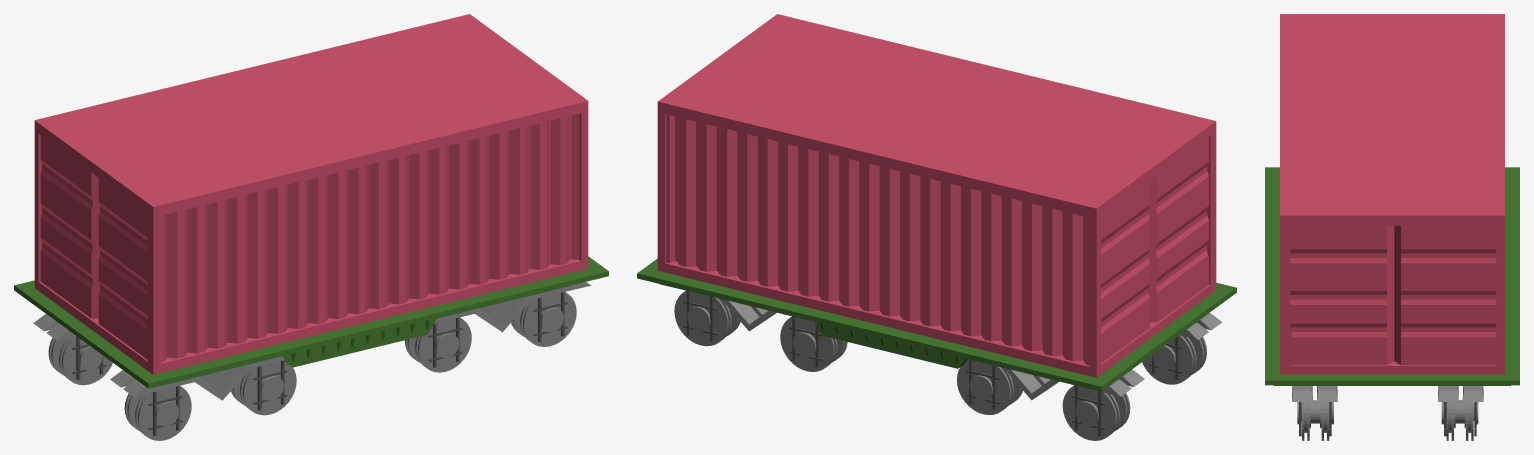
Rendered from train.glb.
3 views of the same model, side by side, from view 1: azimuth 30°, elevation 25°; view 2: azimuth 150°, elevation 25°; view 3: azimuth 270°, elevation 25° (orthographic). The views are drawn at different scales.
Visible parts, largest first — view 1: Cube.025, Cube.021, Cube.001, Cylinder.005, Cylinder.008, Cylinder.006, Cylinder.007, Cylinder.002, Cube.013, Cube.017; view 2: Cube.025, Cube.021, Cylinder.002, Cylinder.004, Cylinder.003, Cylinder.001, Cylinder.005, Cube.001, Cube.003, Cube.007; view 3: Cube.025, Cube.021, Cylinder.004, Cylinder.008, Cube.007, Cube.009, Cube.017, Cube.019.
Boxes of the visible parts, x1,y1,x2,y2 form: Cube.025: [34, 14, 588, 374]; Cube.021: [14, 256, 608, 388]; Cube.001: [150, 286, 568, 388]; Cylinder.005: [124, 386, 191, 440]; Cylinder.008: [511, 292, 576, 346]; Cylinder.006: [231, 361, 296, 415]; Cylinder.007: [404, 317, 471, 372]; Cylinder.002: [48, 336, 112, 385]; Cube.013: [123, 356, 284, 400]; Cube.017: [434, 282, 590, 332]; Cube.025: [657, 14, 1216, 377]; Cube.021: [637, 258, 1236, 391]; Cylinder.002: [1062, 385, 1130, 440]; Cylinder.004: [674, 290, 740, 346]; Cylinder.003: [957, 359, 1022, 414]; Cylinder.001: [780, 316, 847, 371]; Cylinder.005: [1142, 335, 1206, 384]; Cube.001: [814, 321, 967, 368]; Cube.003: [970, 359, 1131, 400]; Cube.007: [660, 284, 813, 331]; Cube.025: [1280, 14, 1504, 374]; Cube.021: [1265, 167, 1519, 385]; Cylinder.004: [1441, 400, 1478, 440]; Cylinder.008: [1297, 400, 1333, 440]; Cube.007: [1462, 386, 1483, 401]; Cube.009: [1438, 386, 1458, 401]; Cube.017: [1292, 386, 1312, 401]; Cube.019: [1317, 386, 1337, 401].
Size of the model in its own units: 18.67 by 9.59 by 9.43.
